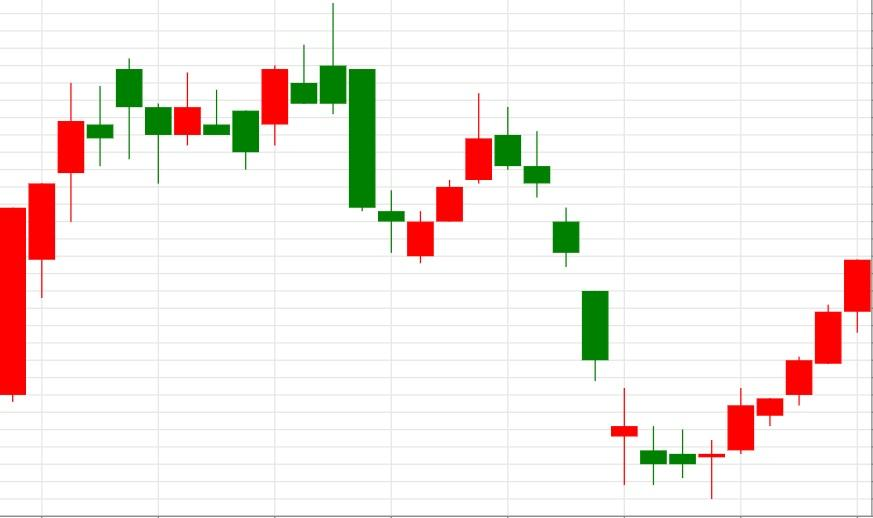three_black_crows_fall: (406, 92, 580, 267)
three_white_soldiers_rise: (319, 3, 493, 264)
